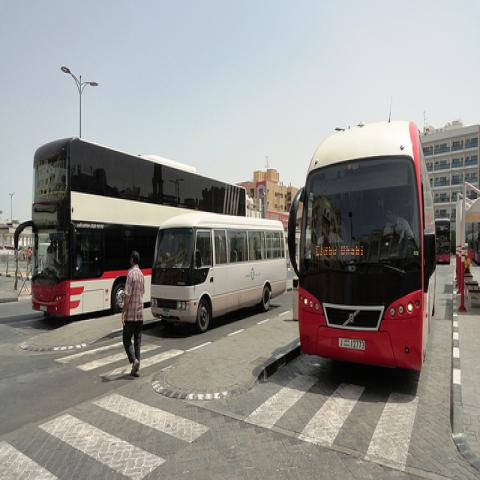bus: (13, 138, 248, 315), (285, 121, 440, 377), (150, 216, 289, 330), (435, 218, 452, 264)
